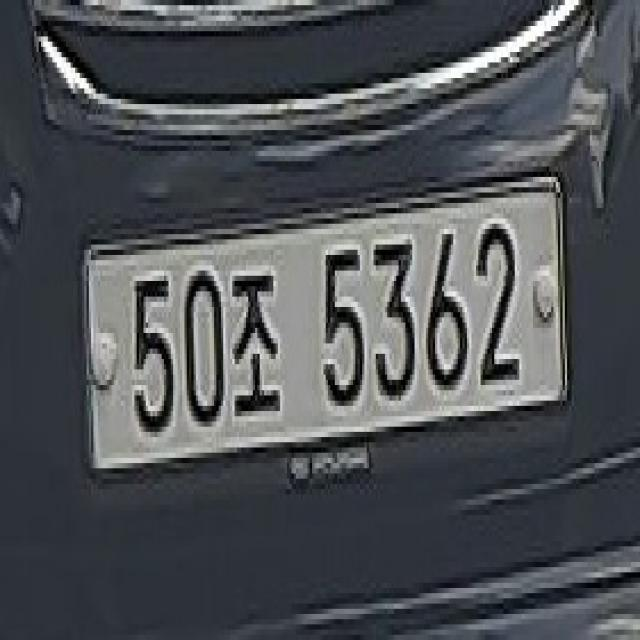0: (182, 256, 225, 440)
2: (476, 206, 534, 394)
3: (374, 228, 421, 412)
5: (128, 253, 180, 446), (321, 229, 372, 422)
6: (424, 218, 468, 411)
jo: (231, 251, 289, 433)
license_plate: (75, 176, 564, 471)
